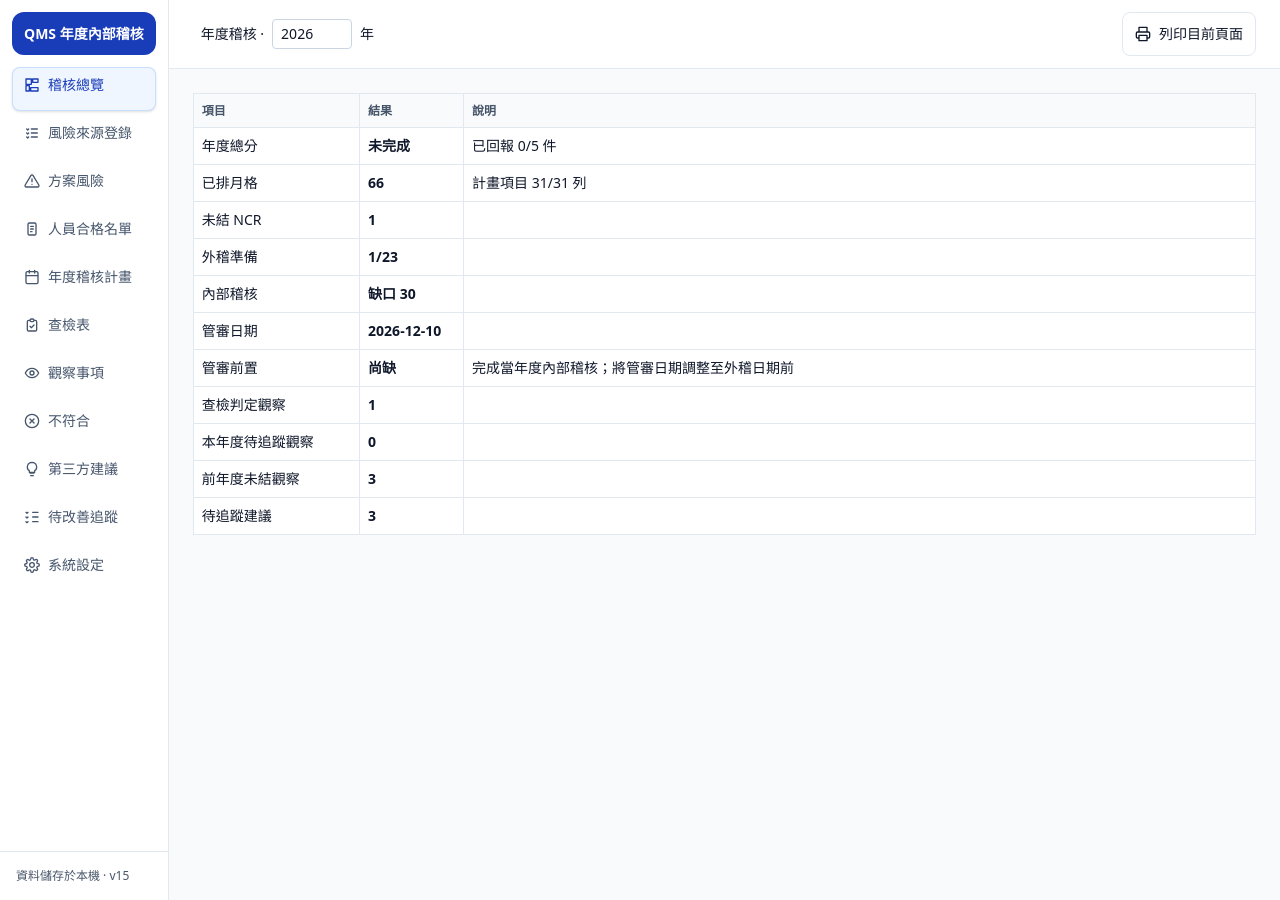
Test case: App tab smoke › returns to the top when switching workflow pages
Click the button "系統設定" at (84, 569), box [12, 547, 156, 591]
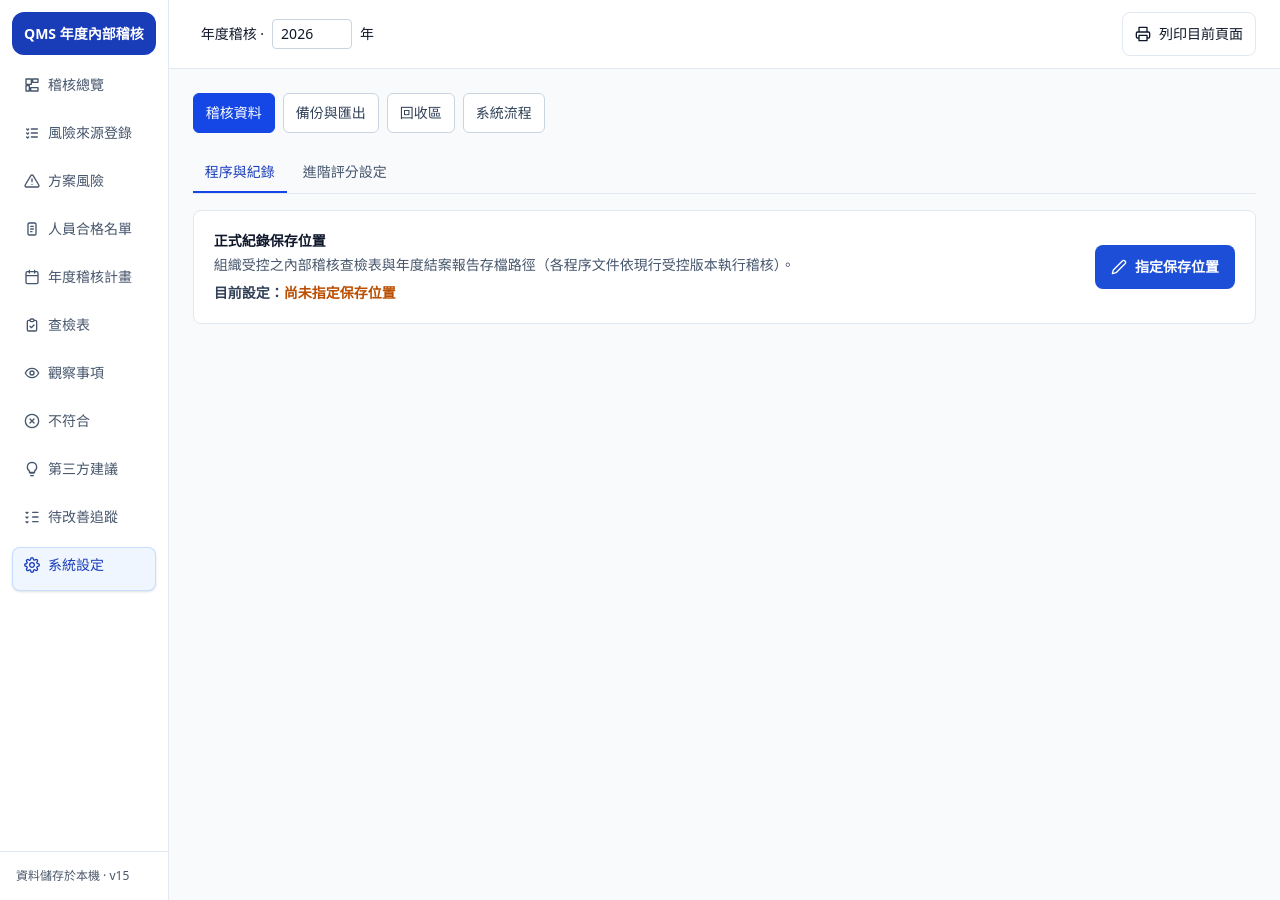
Now the element named "系統設定區塊" is shown, box [193, 93, 545, 133]
